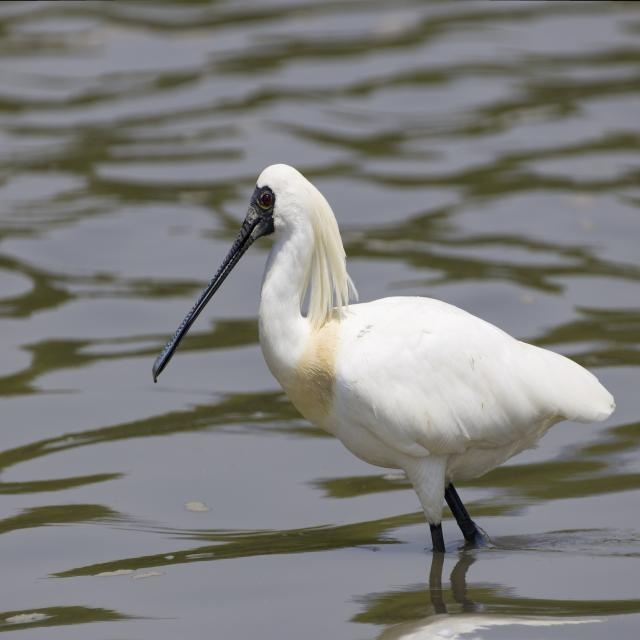Black-faced spoonbill: (154, 165, 614, 551)
